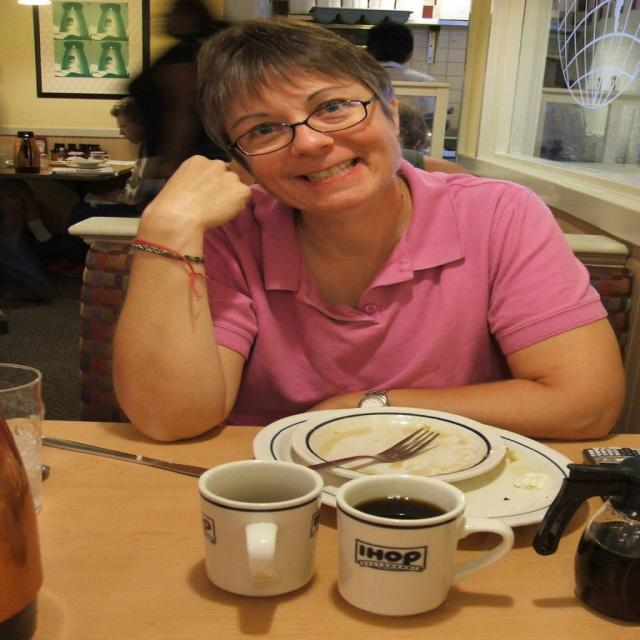Coffee: (350, 495, 442, 520)
